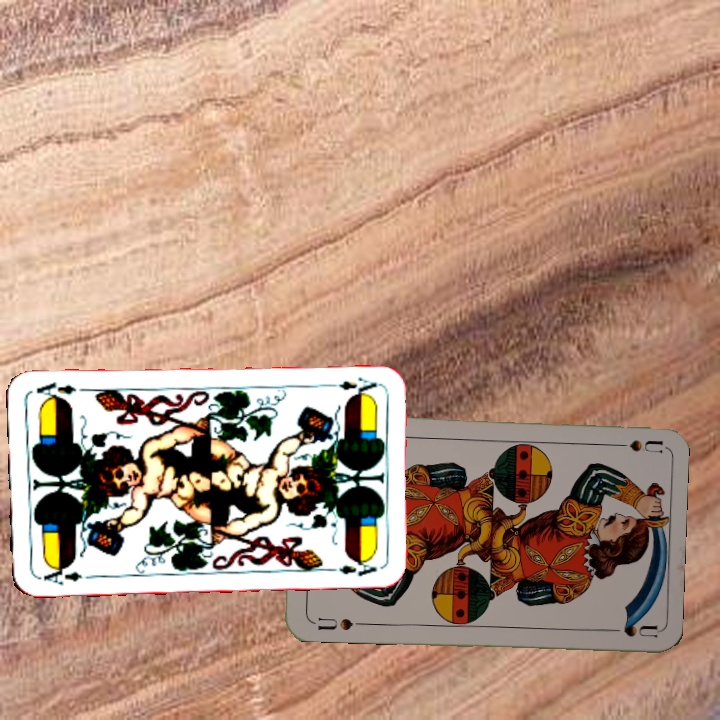EA: (36, 561, 85, 588), (321, 373, 379, 394)
SU: (604, 436, 663, 457), (307, 613, 366, 633)
